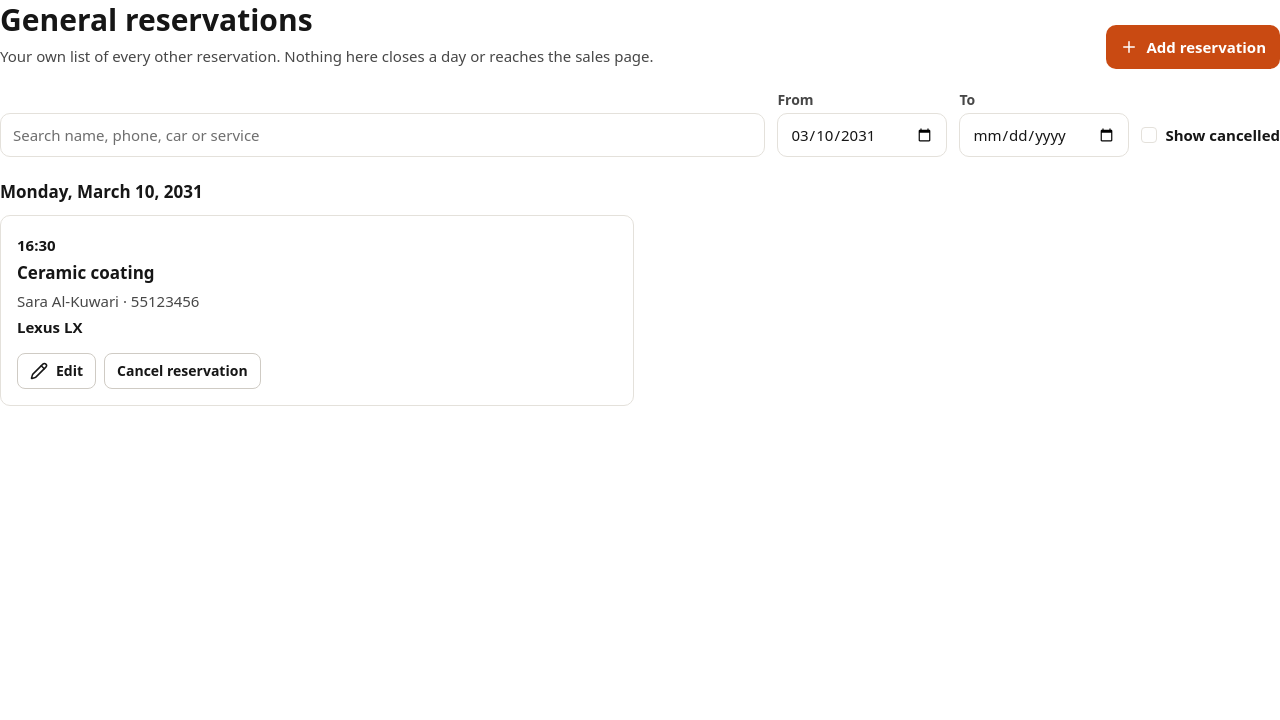
Test case: General reservations page › cancels after confirming
Click the button "Cancel reservation".
click(182, 370)  # box left=104, top=352, right=261, bottom=388
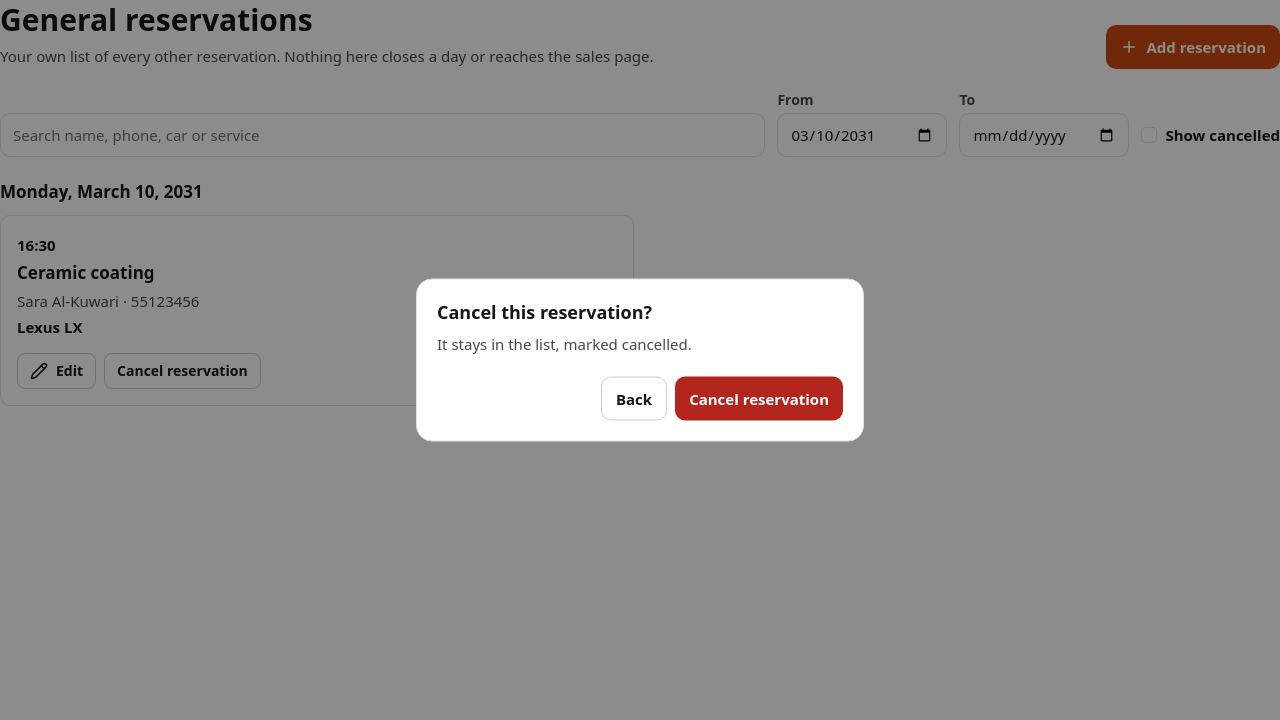
Click the button "Cancel reservation".
click(759, 398)  # box left=675, top=376, right=843, bottom=420
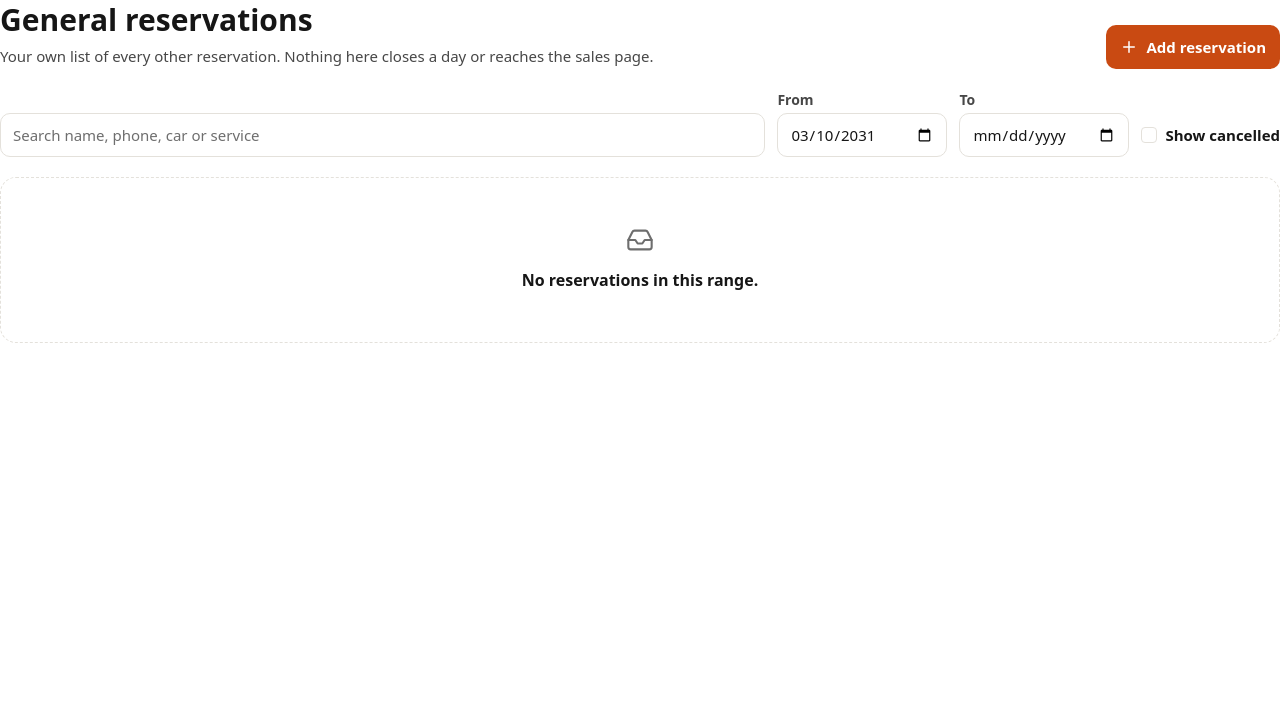
Expected: the text "No reservations in this range." is shown, left=522, top=266, right=758, bottom=294
